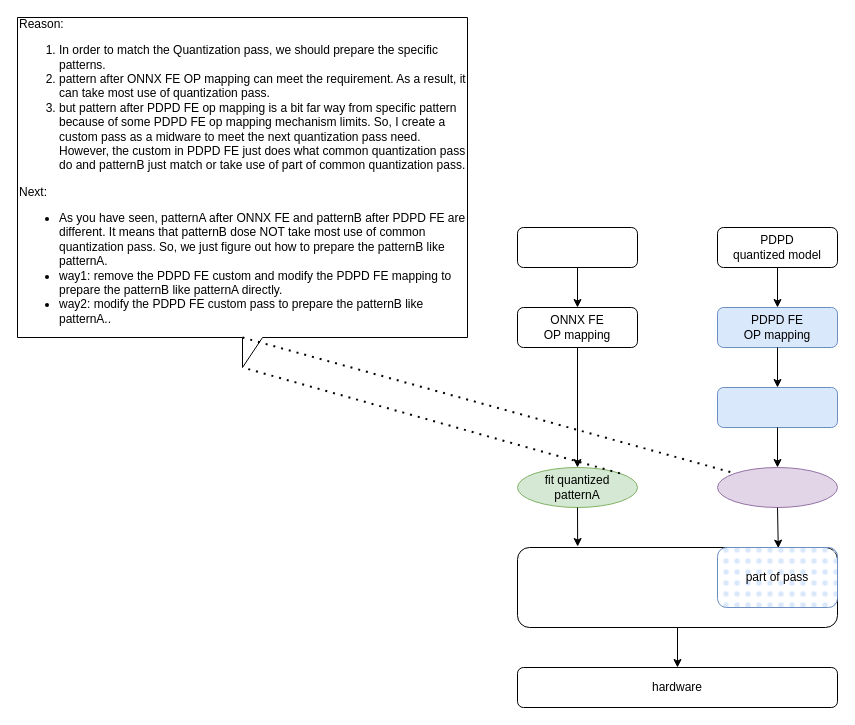
Image size: 855x725. Some labels were removed from this diagram. The shapes that lost their labels are listed below. From the top down, each one's box as (x1, y1, x2, y2) in pixels, then its label:
(516, 226, 638, 268): ONNX quantized model
(716, 386, 838, 428): PDPD FE custom pass
(716, 466, 838, 508): fit quantized patternB
(516, 546, 838, 628): Quantization pass
